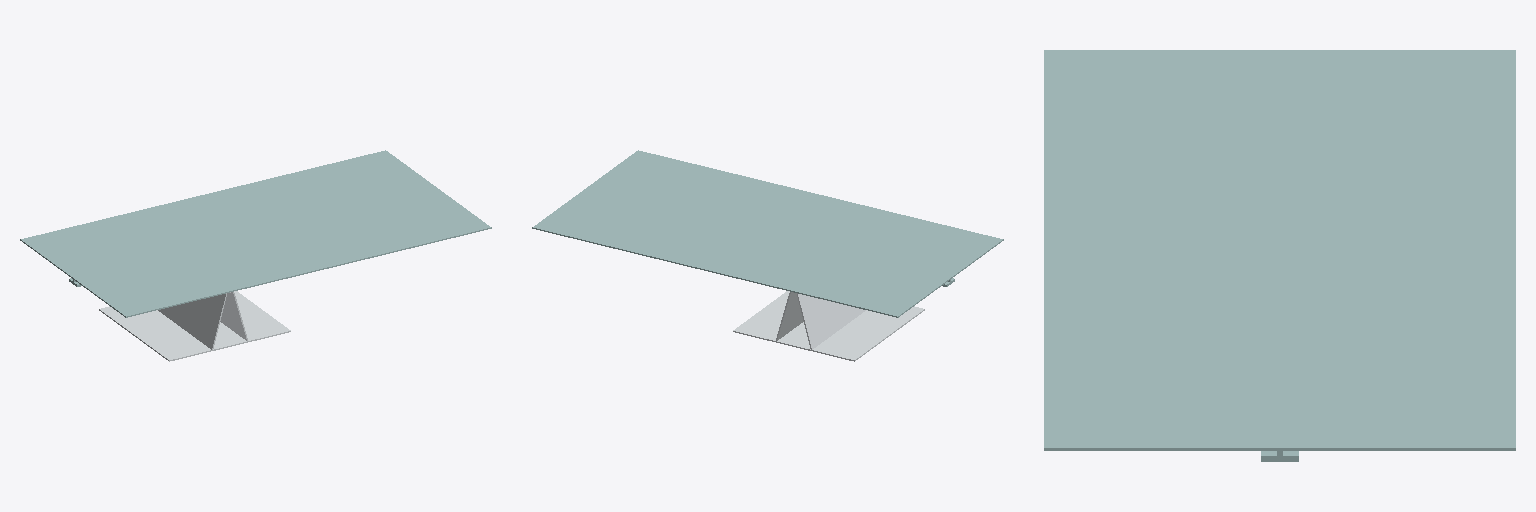
URDF robot description (Treadmill_for_pb):
<?xml version="1.0" encoding="utf-8"?>
<!-- This URDF was automatically created by SolidWorks to URDF Exporter! Originally created by [author] ([email redacted])
     Commit Version: 1.5.1-0-g916b5db  Build Version: 1.5.7152.31018
     For more information, please see http://wiki.ros.org/sw_urdf_exporter -->
<robot
  name="Treadmill_for_pb">
  <link
    name="Base_Treadmill">
    <inertial>
      <origin
        xyz="0.22167 0.50026 0.80092"
        rpy="0 0 0" />
      <mass
        value="59.324" />
      <inertia
        ixx="6.3399"
        ixy="2.0032E-15"
        ixz="5.8578E-15"
        iyy="7.4937"
        iyz="5.4091E-17"
        izz="3.7496" />
    </inertial>
    <visual>
      <origin
        xyz="0 0 0"
        rpy="0 0 0" />
      <geometry>
        <mesh
          filename="DRS_Motek_treadmill/meshes/Base_Treadmill.STL" />
      </geometry>
      <material
        name="AL">
        <color
          rgba="0.89804 0.91765 0.92941 1" />
      </material>
    </visual>
    <collision>
      <origin
        xyz="0 0 0"
        rpy="0 0 0" />
      <geometry>
        <mesh
          filename="DRS_Motek_treadmill/meshes/Base_Treadmill.STL" />
      </geometry>
    </collision>
  </link>
  <link
    name="Intermediate_link">
    <inertial>
      <origin
        xyz="-2.7756E-17 0.049278 0.5"
        rpy="0 0 0" />
      <mass
        value="9.4735" />
      <inertia
        ixx="0.22651"
        ixy="3.7563E-18"
        ixz="-1.8308E-18"
        iyy="0.35242"
        iyz="8.5205E-18"
        izz="0.14109" />
    </inertial>
    <visual>
      <origin
        xyz="0 0 0"
        rpy="0 0 0" />
      <geometry>
        <mesh
          filename="DRS_Motek_treadmill/meshes/Intermediate_link.STL" />
      </geometry>
      <material
        name="AL">
        <color
          rgba="0.2 0.4 0.69804 1" />
      </material>
    </visual>
    <collision>
      <origin
        xyz="0 0 0"
        rpy="0 0 0" />
      <geometry>
        <mesh
          filename="DRS_Motek_treadmill/meshes/Intermediate_link.STL" />
      </geometry>
    </collision>
  </link>
  <joint
    name="Revolute_b_i"
    type="revolute">
    <origin
      xyz="0.22167 -0.30092 0.80831"
      rpy="1.5708 0 0" />
    <parent
      link="Base_Treadmill" />
    <child
      link="Intermediate_link" />
    <axis
      xyz="0 0 1" />
    <limit
      lower="-2.0"
      upper="2.0"
      effort="5000"
      velocity="2" />
  </joint>
  <link
    name="Platform_top">
    <inertial>
      <origin
        xyz="0 1.1261E-05 0"
        rpy="0 0 0" />
      <mass
        value="143.86" />
      <inertia
        ixx="22.826"
        ixy="-2.0487E-17"
        ixz="1.8176E-15"
        iyy="130.7"
        iyz="8.9087E-18"
        izz="107.91" />
    </inertial>
    <visual>
      <origin
        xyz="0 0 0"
        rpy="0 0 0" />
      <geometry>
        <mesh
          filename="DRS_Motek_treadmill/meshes/Platform_top.STL" />
      </geometry>
      <material
        name="AL">
        <color
          rgba="0.7 0.8 0.8 1" />
      </material>
    </visual>
    <collision>
      <origin
        xyz="0 0 0"
        rpy="0 0 0" />
      <geometry>
        <mesh
          filename="DRS_Motek_treadmill/meshes/Platform_top.STL" />
      </geometry>
    </collision>
  </link>
  <joint
    name="Prismatic_i_p"
    type="prismatic">
    <origin
      xyz="01.0 0.055 0.5"
      rpy="-1.5708 0 0" />
    <parent
      link="Intermediate_link" />
    <child
      link="Platform_top" />
    <axis
      xyz="1 0 0" />
    <limit
      lower="-3.0"
      upper="3.0"
      effort="5000"
      velocity="0" />
  </joint>
</robot>

--- Facts derived from the render (not from the file) ---
3 views of the same robot in one strip: view 1: azimuth 30°, elevation 25°; view 2: azimuth 150°, elevation 25°; view 3: azimuth 270°, elevation 25° (orthographic).
Model Treadmill_for_pb with 3 links and 2 joints (1 revolute, 1 prismatic), rooted at Base_Treadmill, posed every joint at zero.
Visible links, largest first — view 1: Platform_top, Base_Treadmill; view 2: Platform_top, Base_Treadmill; view 3: Platform_top.
Link boxes in pixels (box(x1,y1,x2,y2)): Platform_top: box(20, 150, 491, 317); Base_Treadmill: box(99, 291, 290, 361); Platform_top: box(532, 150, 1003, 317); Base_Treadmill: box(733, 291, 924, 361); Platform_top: box(1044, 50, 1515, 461).
Bounding box of the posed robot: 3 × 1.5 × 0.5715 m (x, y, z).
Meshes: 3 distinct files referenced, 3 mesh visuals loaded (3 binary STL).